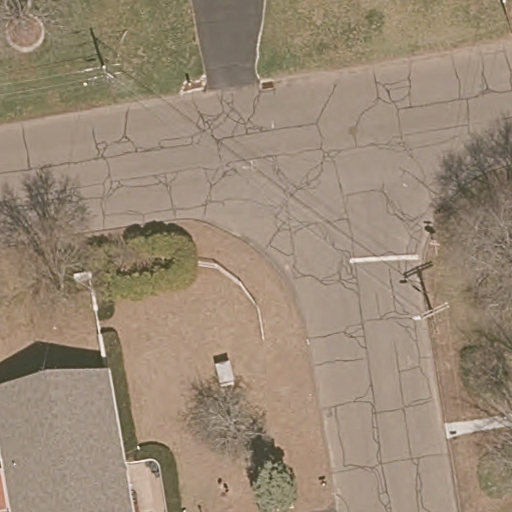DT: (76, 52, 121, 84), (411, 300, 450, 330)
